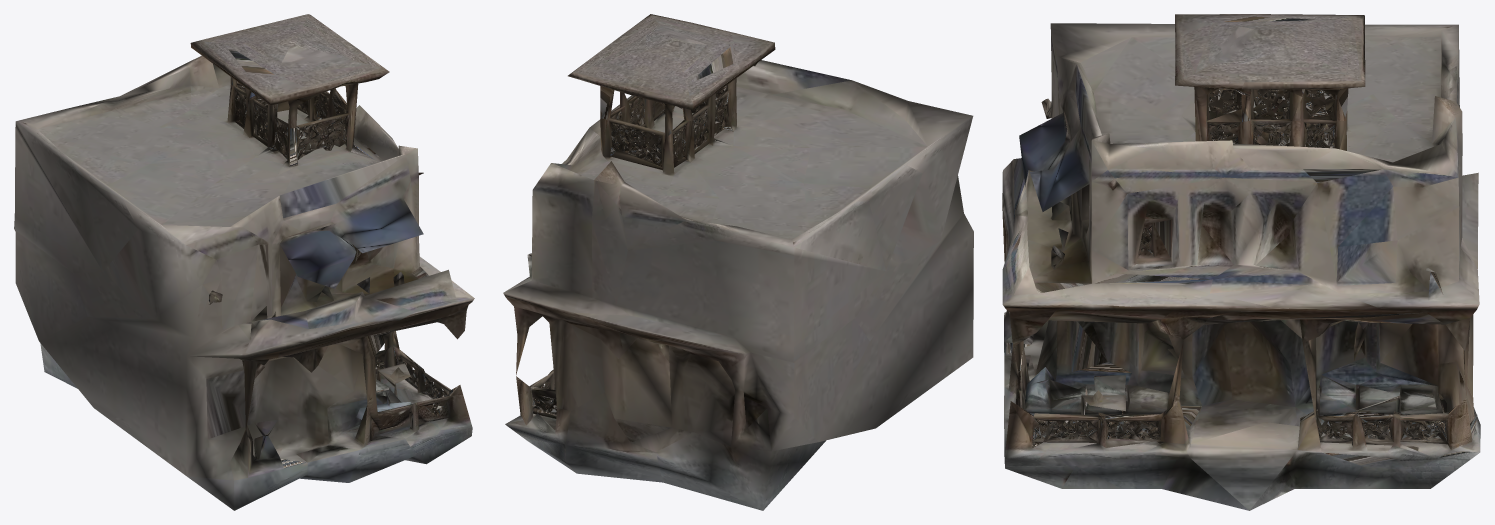
The model's file is tavern_1.glb.
3 views of the same model, side by side, from view 1: azimuth 30°, elevation 25°; view 2: azimuth 150°, elevation 25°; view 3: azimuth 270°, elevation 25° (orthographic). The views are drawn at different scales.
Visible parts, largest first — view 1: tripo_node_34c79959-a374-4c1f-93ec-f5d1e5361122; view 2: tripo_node_34c79959-a374-4c1f-93ec-f5d1e5361122; view 3: tripo_node_34c79959-a374-4c1f-93ec-f5d1e5361122.
Part boxes in pixels (x1,y1,x2,y2): tripo_node_34c79959-a374-4c1f-93ec-f5d1e5361122: [14, 14, 474, 510]; tripo_node_34c79959-a374-4c1f-93ec-f5d1e5361122: [503, 14, 973, 510]; tripo_node_34c79959-a374-4c1f-93ec-f5d1e5361122: [1002, 14, 1480, 510].
Bounding box in the file's own units: 0.8592 × 0.9355 × 0.9762.
Materials: 1 (1 with a texture image).
